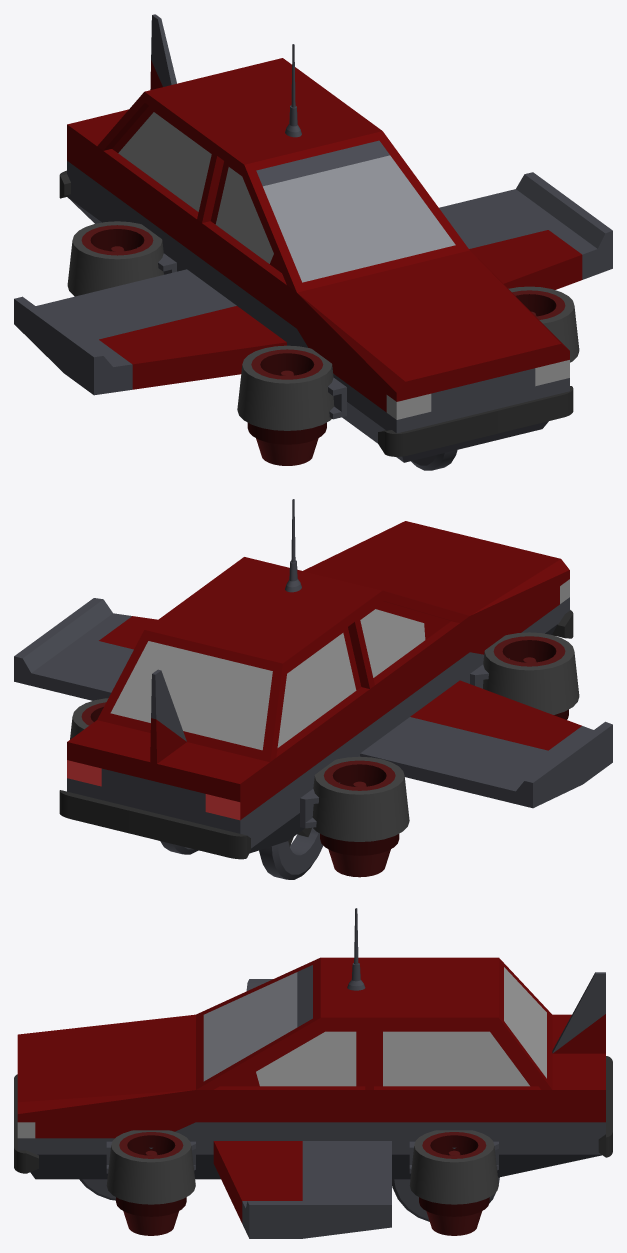
Rendered from FlyingCar2.fbx.
3 renders of one model, top to bottom at view 1: azimuth 30°, elevation 25°; view 2: azimuth 150°, elevation 25°; view 3: azimuth 270°, elevation 25°, orthographic. The views are drawn at different scales.
Parts seen in each view (by area): view 1: mergedBlocks; view 2: mergedBlocks; view 3: mergedBlocks.
Boxes of the visible parts, x1,y1,x2,y2 form: mergedBlocks: (14, 14, 612, 470); mergedBlocks: (14, 499, 612, 879); mergedBlocks: (14, 908, 612, 1238).
Size of the model in its own units: 300 by 180 by 336.
